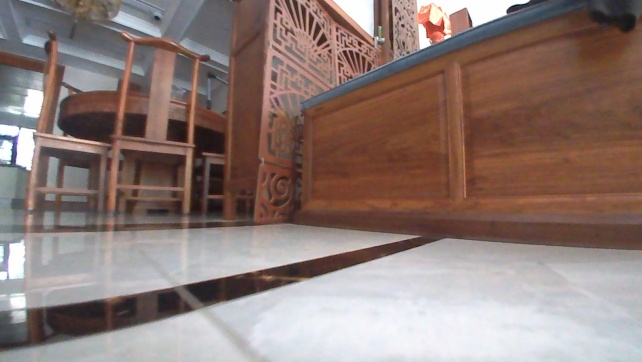dining_table: (21, 29, 231, 216)
